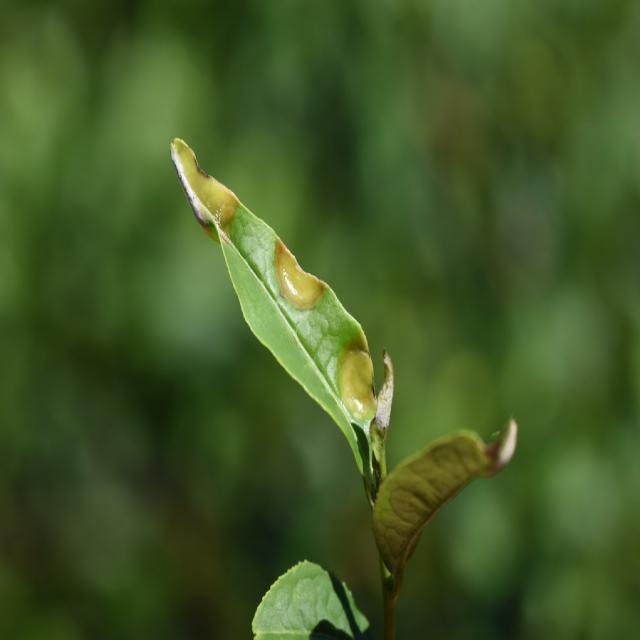Tea cake: (174, 137, 239, 235), (338, 321, 392, 429), (273, 222, 325, 309)
